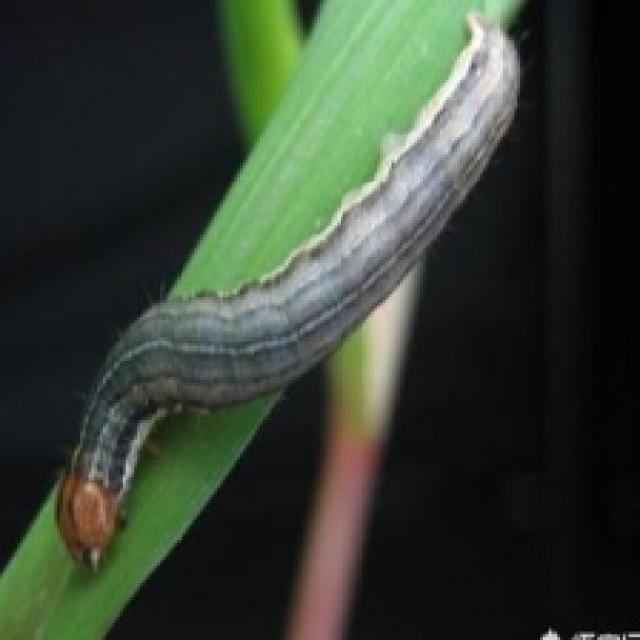Plaga: (50, 4, 530, 576)
